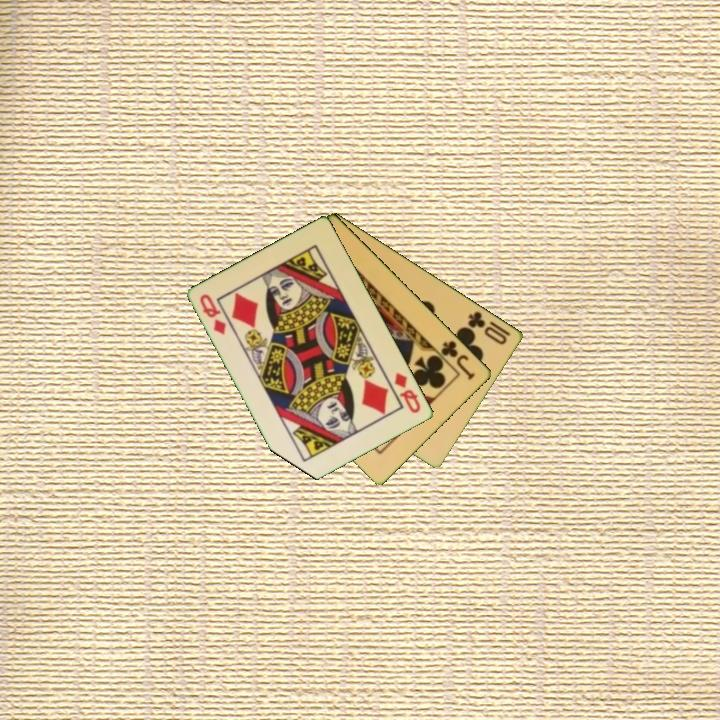10c: (465, 308, 510, 348)
Jc: (438, 337, 479, 383)
Qd: (391, 369, 424, 416), (197, 290, 229, 338)
